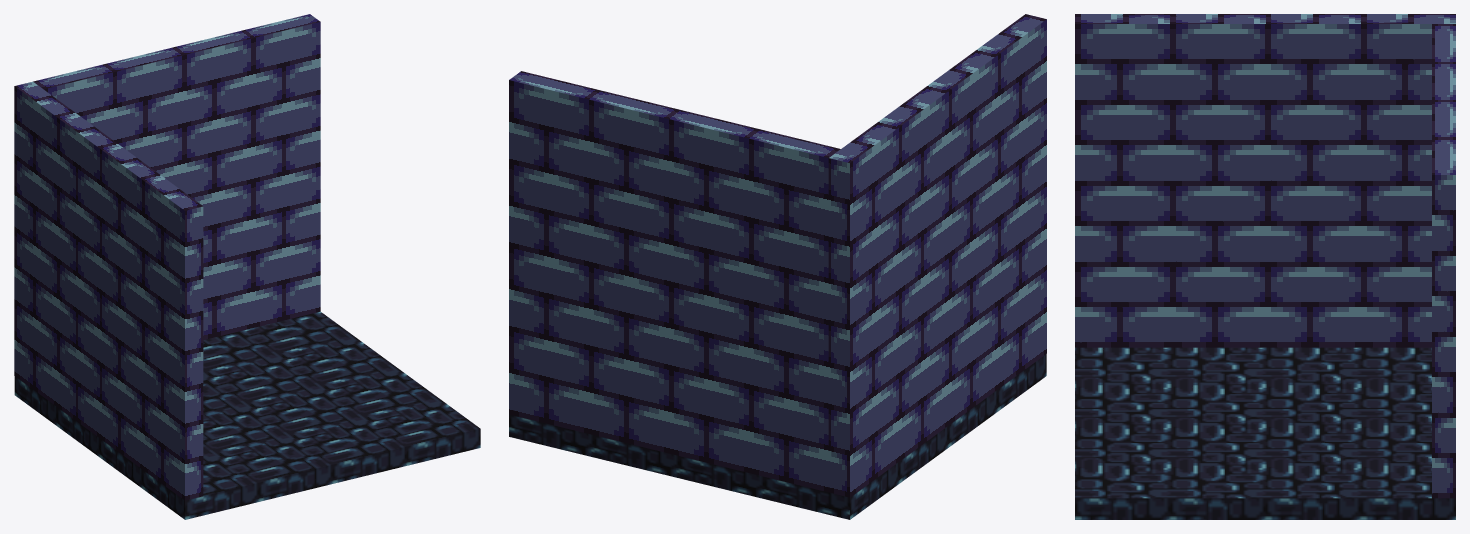
The model's file is corner.obj.
3 renders of one model, left to right at view 1: azimuth 30°, elevation 25°; view 2: azimuth 150°, elevation 25°; view 3: azimuth 270°, elevation 25°, orthographic. The views are drawn at different scales.
Visible parts, largest first — view 1: wall, floor; view 2: wall, floor; view 3: wall, floor.
Part boxes in pixels (box(x1,y1,x2,y2)): wall: box(14, 14, 320, 500); floor: box(14, 311, 480, 519); wall: box(509, 14, 1046, 497); floor: box(509, 354, 1046, 519); wall: box(1075, 14, 1455, 498); floor: box(1075, 347, 1455, 519).
Size of the model in its own units: 16.01 by 16 by 16.
Materials: 2 (2 with a texture image).
